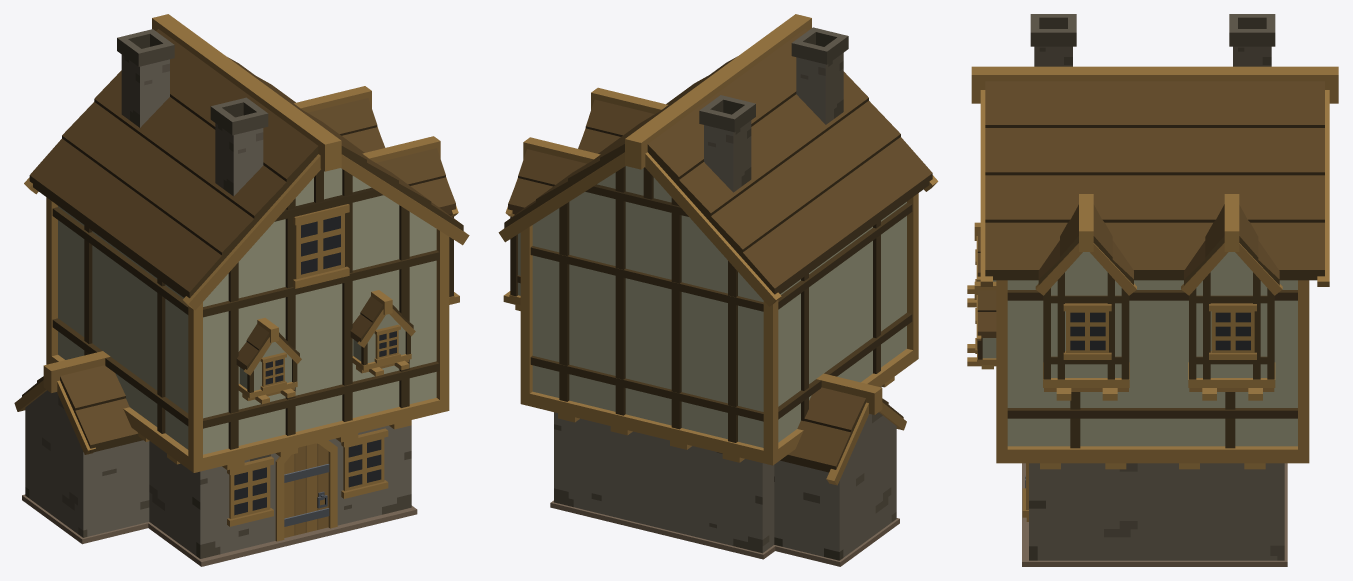
The model's file is SF_Bld_House_Large_02.fbx.
3 renders of one model, left to right at view 1: azimuth 30°, elevation 25°; view 2: azimuth 150°, elevation 25°; view 3: azimuth 270°, elevation 25°, orthographic. The views are drawn at different scales.
Visible parts, largest first — view 1: SF_Bld_House_Large_02; view 2: SF_Bld_House_Large_02; view 3: SF_Bld_House_Large_02.
Boxes of the visible parts, bbox=[...] form: SF_Bld_House_Large_02: bbox=[14, 14, 469, 566]; SF_Bld_House_Large_02: bbox=[498, 14, 938, 566]; SF_Bld_House_Large_02: bbox=[967, 14, 1338, 566].
Bounding box in the file's own units: 15.13 × 18.02 × 13.2.
